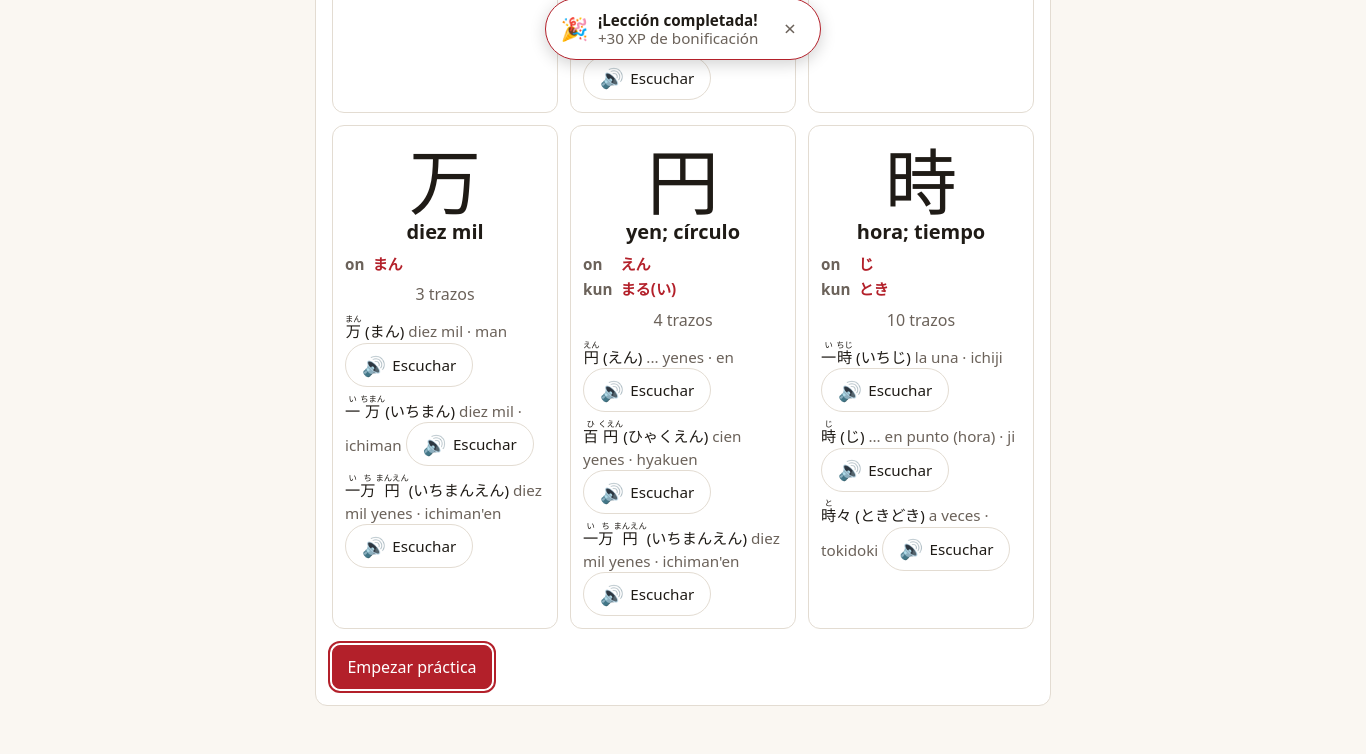
kanji lesson page › starts with the kanji game
(page scrolled)
Click the button "Empezar práctica". click: (412, 667)
box: [332, 645, 492, 689]
(page scrolled)
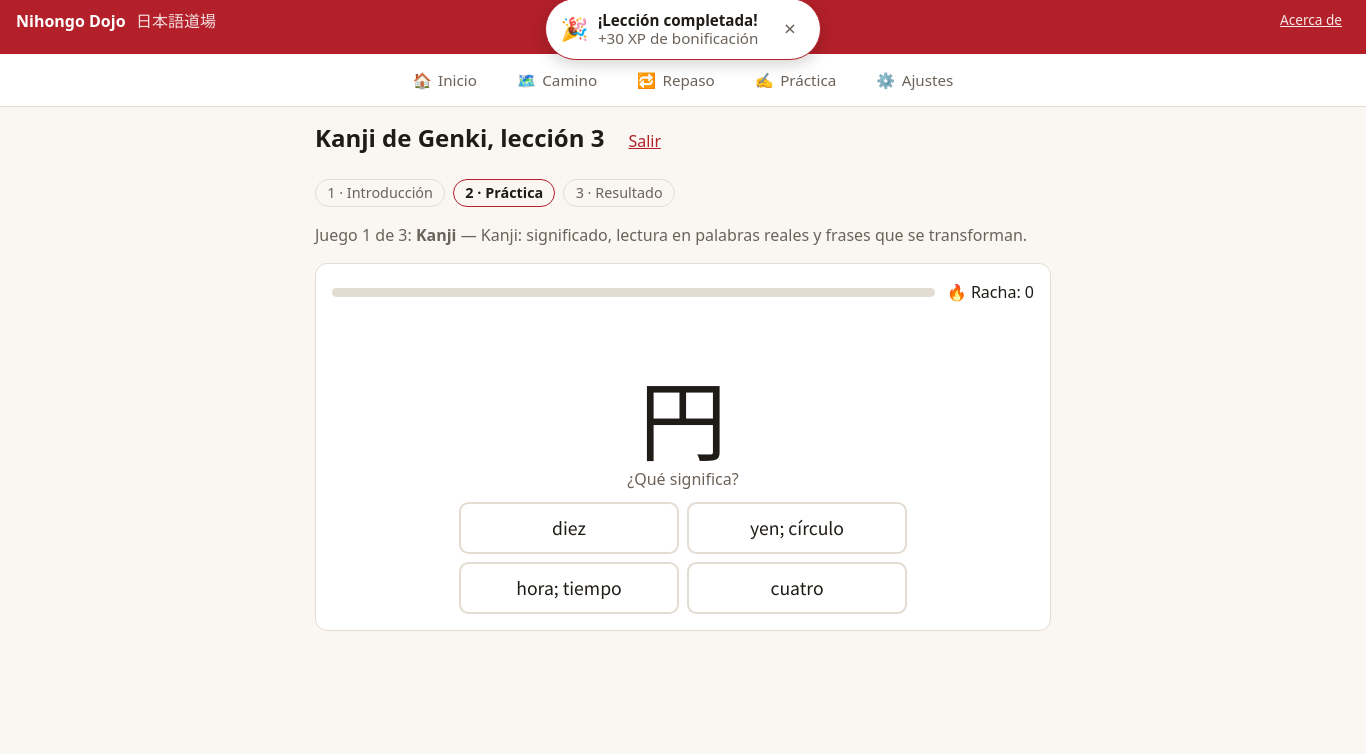
Expected: the text "Kanji" is shown, [416, 224, 456, 246]
Expected: the text "¿Qué significa?" is shown, [627, 469, 739, 490]
